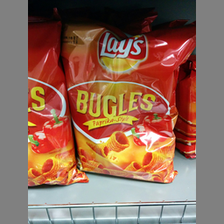chips: (65, 27, 186, 183), (28, 24, 74, 187)
